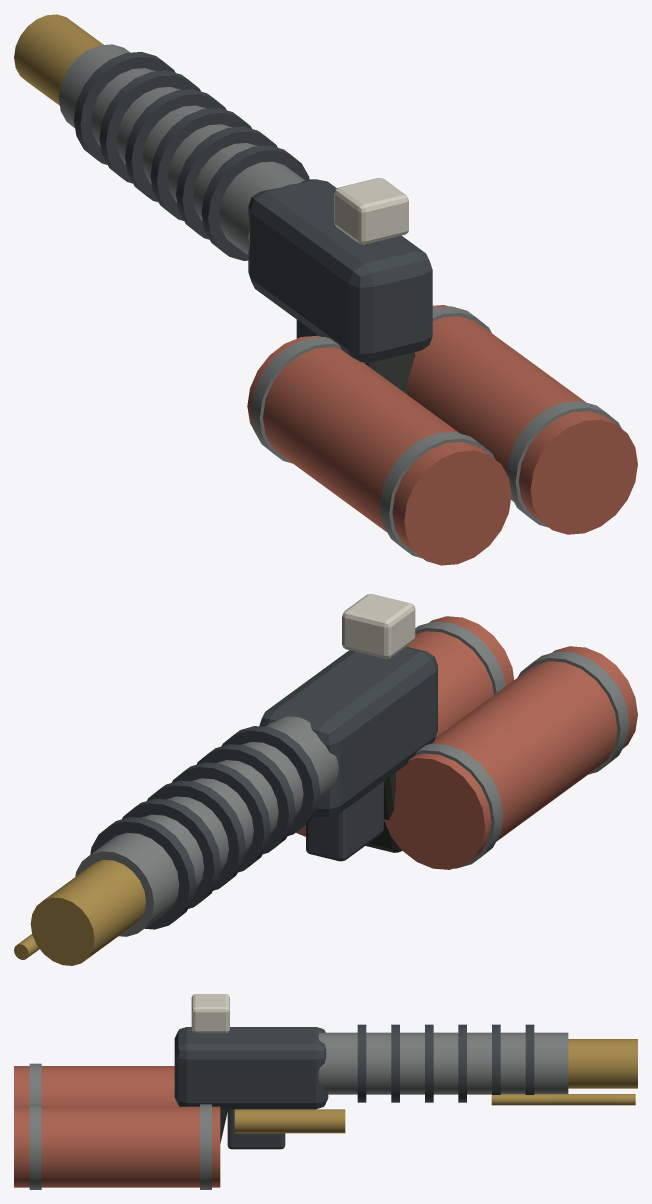
The model's file is noir-flamethrower.glb.
3 views of the same model, one above another, from view 1: azimuth 30°, elevation 25°; view 2: azimuth 150°, elevation 25°; view 3: azimuth 270°, elevation 25° (orthographic). The views are drawn at different scales.
Parts seen in each view (by area): view 1: fuel-enamel, weapon-blued-steel.007, weapon-machined-steel.005, weapon-machined-steel.006, weapon-brass.001, arc-ceramic, weapon-grip.006; view 2: weapon-blued-steel.007, fuel-enamel, weapon-machined-steel.005, weapon-brass.001, weapon-machined-steel.006, arc-ceramic, weapon-grip.006; view 3: fuel-enamel, weapon-blued-steel.007, weapon-machined-steel.005, weapon-brass.001, weapon-machined-steel.006, arc-ceramic.
Boxes of the visible parts, x1,y1,x2,y2 form: fuel-enamel: (247,305,637,565); weapon-blued-steel.007: (74,52,432,362); weapon-machined-steel.005: (58,44,304,254); weapon-machined-steel.006: (250,306,621,558); weapon-brass.001: (14,14,103,105); arc-ceramic: (334,178,408,244); weapon-grip.006: (364,352,415,394); weapon-blued-steel.007: (90,646,437,929); fuel-enamel: (296,616,637,869); weapon-machined-steel.005: (75,716,338,936); weapon-brass.001: (14,860,145,965); weapon-machined-steel.006: (415,621,629,868); arc-ceramic: (342,594,415,658); weapon-grip.006: (365,772,401,852); fuel-enamel: (14,1066,220,1187); weapon-blued-steel.007: (174,1024,534,1149); weapon-machined-steel.005: (318,1032,568,1094); weapon-brass.001: (234,1039,637,1133); weapon-machined-steel.006: (29,1063,211,1189); arc-ceramic: (191,994,229,1033).
Bounding box in the file's own units: 0.38 × 0.38 × 1.3.
